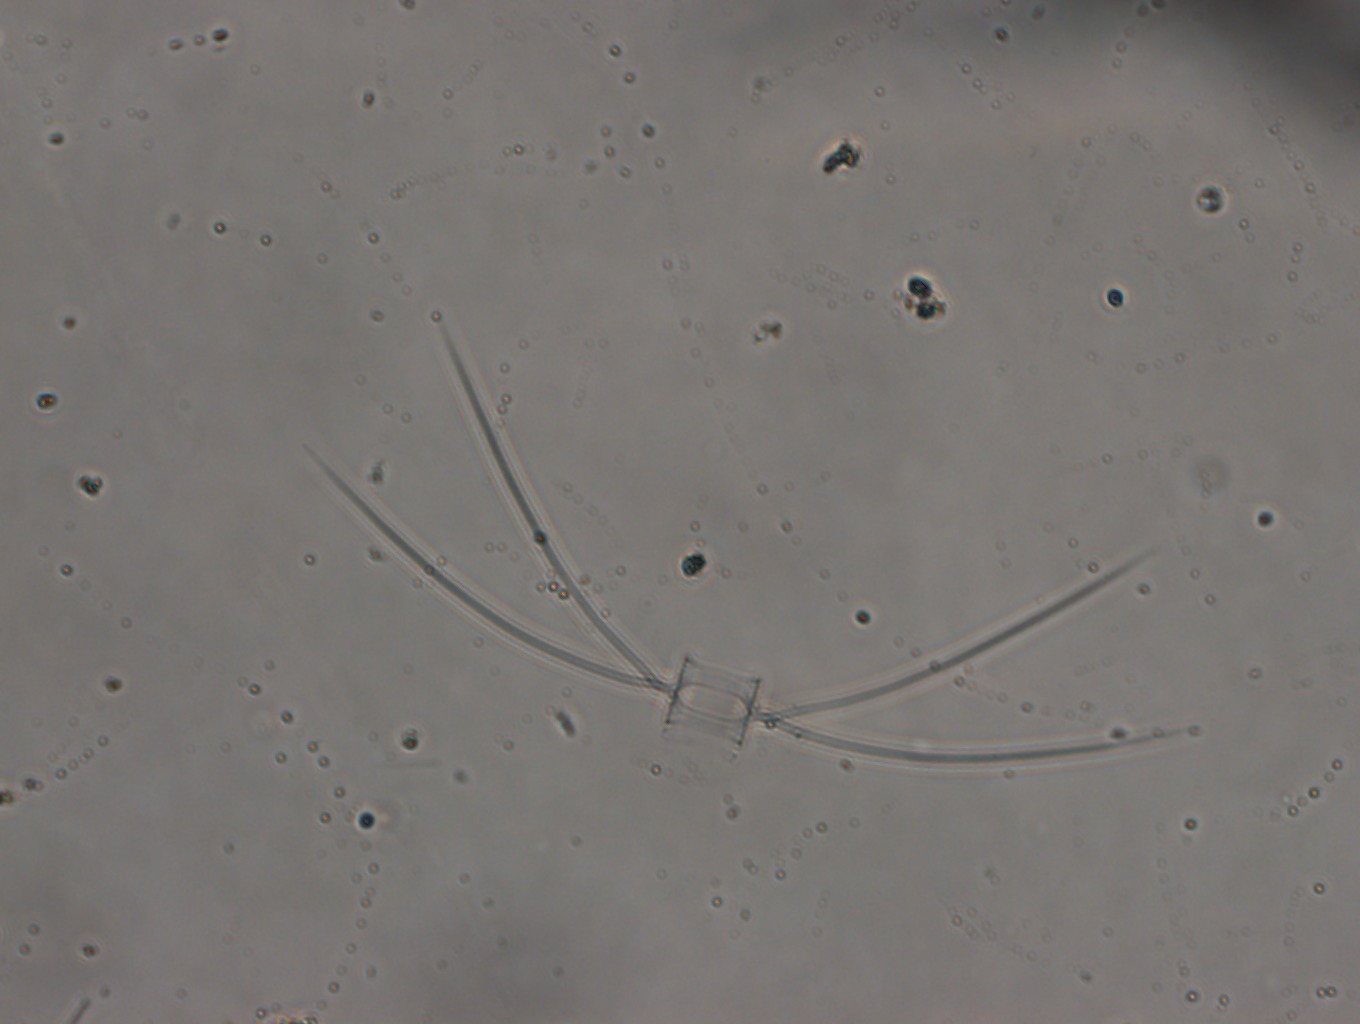chaetoceros: (304, 326, 1175, 767)
